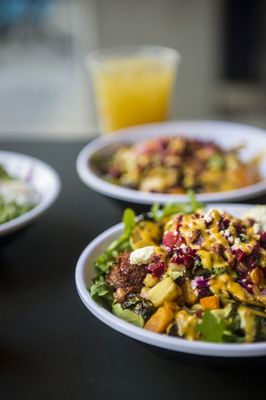curry: (195, 306, 246, 343)
sushi: (74, 201, 266, 362), (76, 117, 265, 210), (0, 150, 62, 242)
